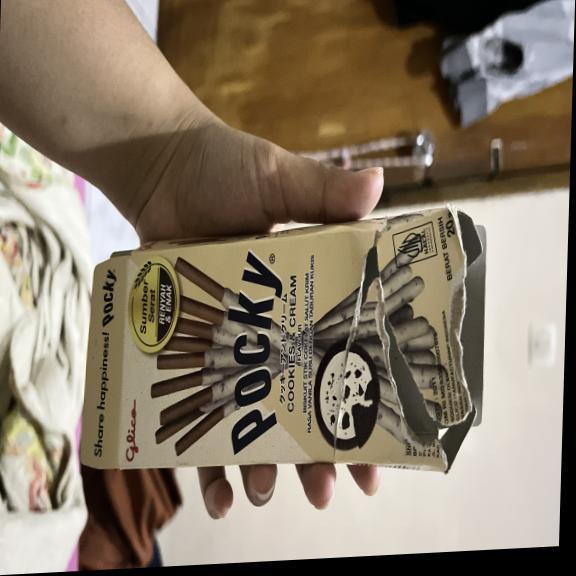Kertas: (118, 207, 453, 471)
